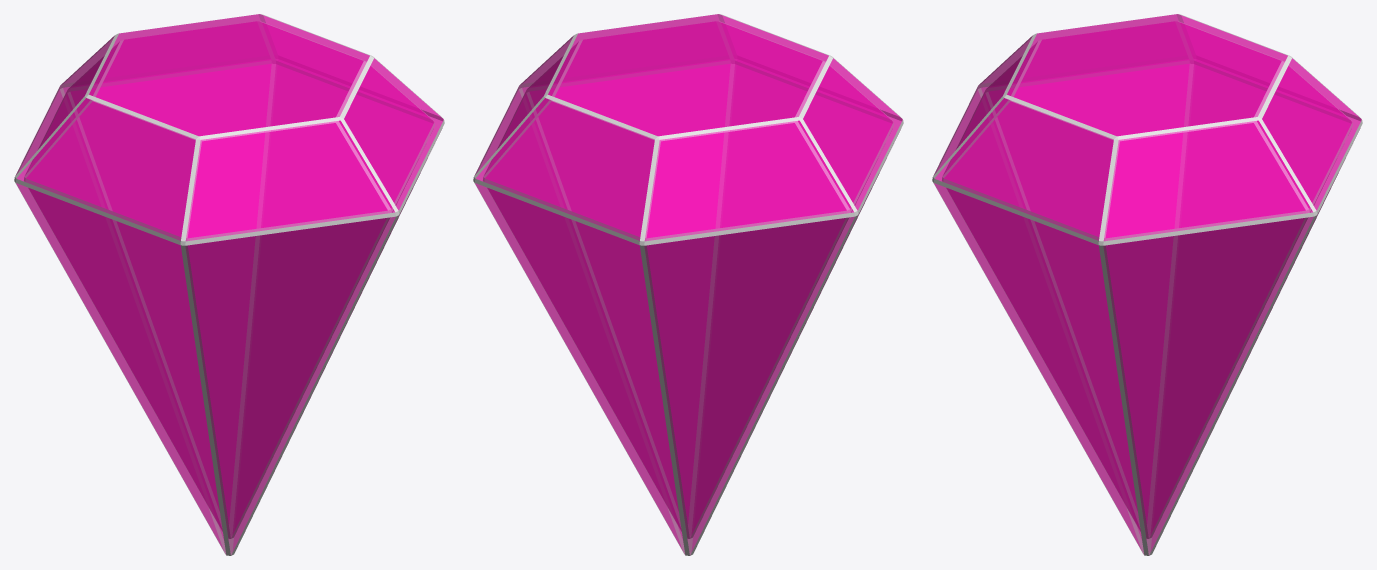
The model's file is almaz.fbx.
3 views of the same model, side by side, from view 1: azimuth 30°, elevation 25°; view 2: azimuth 150°, elevation 25°; view 3: azimuth 270°, elevation 25° (orthographic).
Parts seen in each view (by area): view 1: Cone; view 2: Cone; view 3: Cone.
Part boxes in pixels (box(x1,y1,x2,y2)): Cone: box(14, 14, 444, 555); Cone: box(473, 14, 903, 555); Cone: box(932, 14, 1362, 555).
Size of the model in its own units: 194 by 231 by 189.
